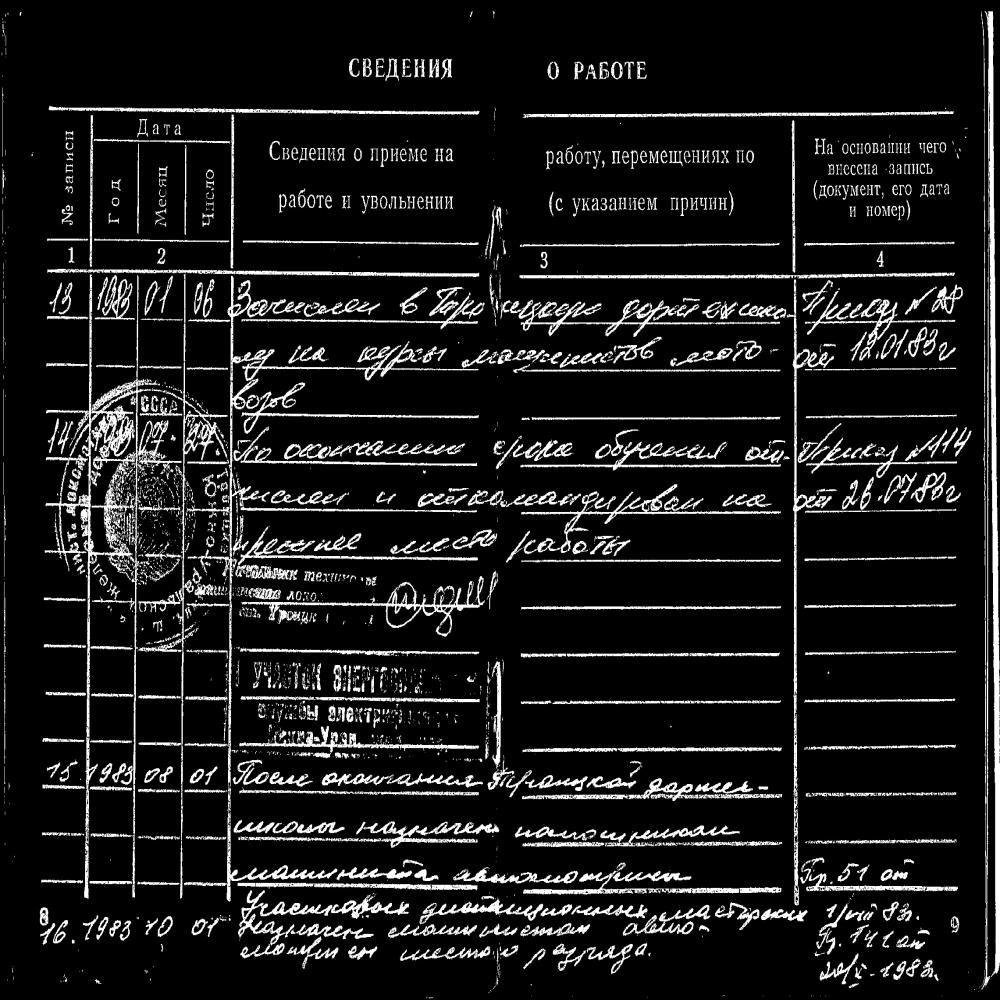rus: (335, 43, 661, 96), (804, 124, 961, 228), (232, 800, 500, 850), (356, 335, 663, 378), (820, 897, 947, 995), (235, 420, 470, 469), (243, 943, 654, 970), (34, 894, 225, 952), (236, 752, 486, 796), (497, 760, 782, 795), (44, 266, 218, 323), (515, 812, 750, 853), (369, 478, 712, 505), (402, 284, 602, 330), (43, 745, 233, 792), (800, 319, 962, 372), (234, 922, 706, 940), (230, 274, 392, 326), (797, 463, 963, 513), (798, 275, 967, 324), (227, 847, 439, 886), (795, 416, 971, 461), (549, 183, 733, 222), (453, 853, 692, 882), (616, 288, 791, 326), (275, 183, 453, 220), (424, 899, 804, 916), (234, 886, 412, 922), (233, 512, 370, 557), (608, 140, 761, 180), (598, 420, 729, 466), (674, 331, 779, 381), (510, 521, 629, 564), (231, 471, 352, 513), (231, 330, 336, 378), (386, 521, 503, 564), (804, 841, 908, 886), (354, 134, 460, 176), (264, 126, 346, 178), (491, 419, 581, 466), (536, 132, 604, 178), (234, 376, 302, 419), (721, 485, 772, 510), (743, 438, 790, 463)
